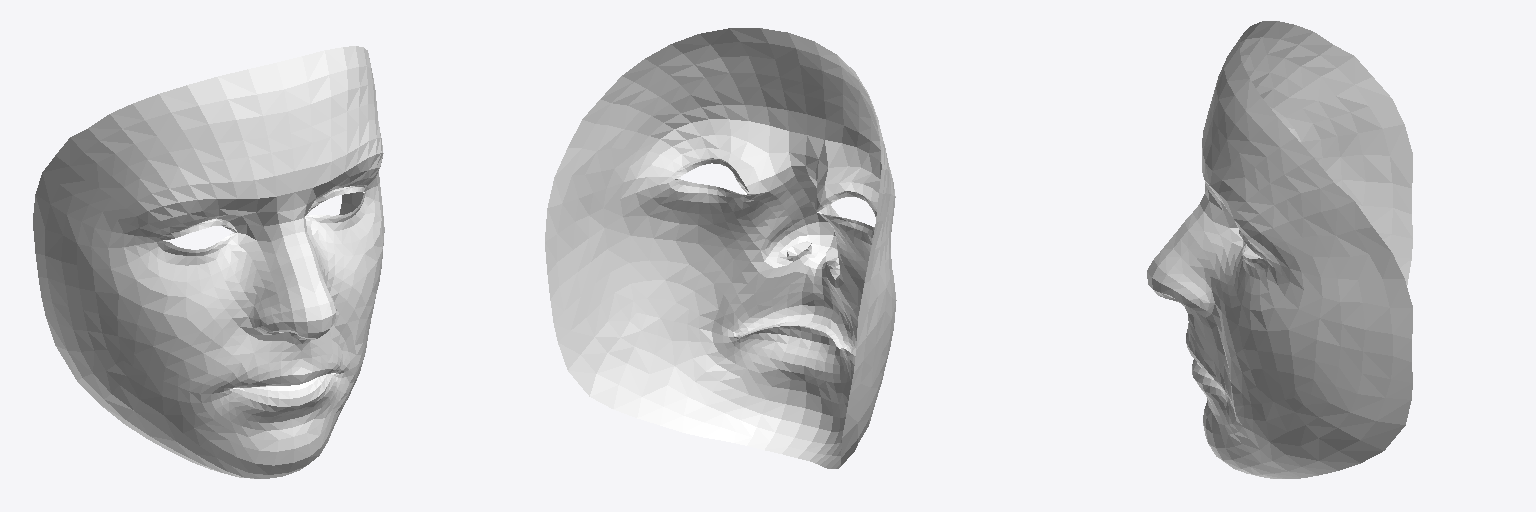
Rendered from mouthFrown_L.obj.
The picture shows the model from 3 angles: view 1: azimuth 30°, elevation 25°; view 2: azimuth 150°, elevation 25°; view 3: azimuth 270°, elevation 25°; orthographic projection.
Parts seen in each view (by area): view 1: default; view 2: default; view 3: default.
Part boxes in pixels (x1,y1,x2,y2): default: (33,46,384,478); default: (545,28,896,468); default: (1147,21,1412,478).
Size of the model in its own units: 0.1447 by 0.182 by 0.1055.